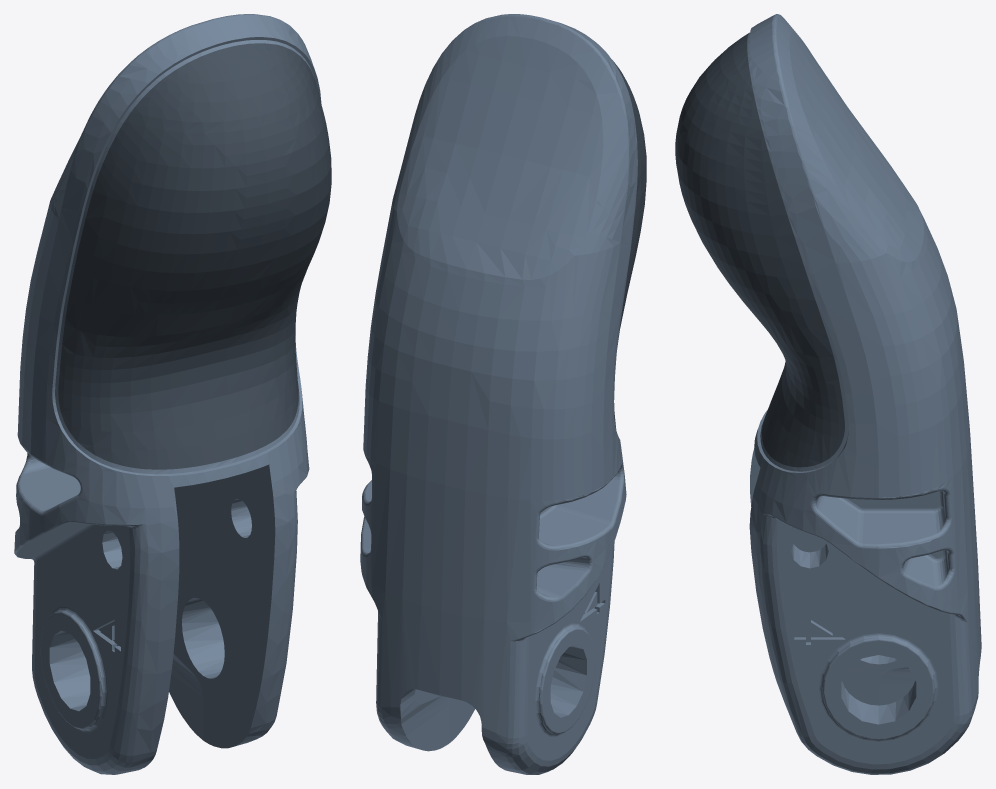
File: pinky_distal.glb
3 renders of one model, left to right at view 1: azimuth 30°, elevation 25°; view 2: azimuth 150°, elevation 25°; view 3: azimuth 270°, elevation 25°, orthographic. The views are drawn at different scales.
Visible parts, largest first — view 1: L_little_dist; view 2: L_little_dist; view 3: L_little_dist.
Part boxes in pixels (x1,y1,x2,y2): L_little_dist: (14, 14, 331, 774); L_little_dist: (360, 14, 646, 774); L_little_dist: (675, 14, 981, 774).
Size of the model in its own units: 0.0147 by 0.0422 by 0.0163.
